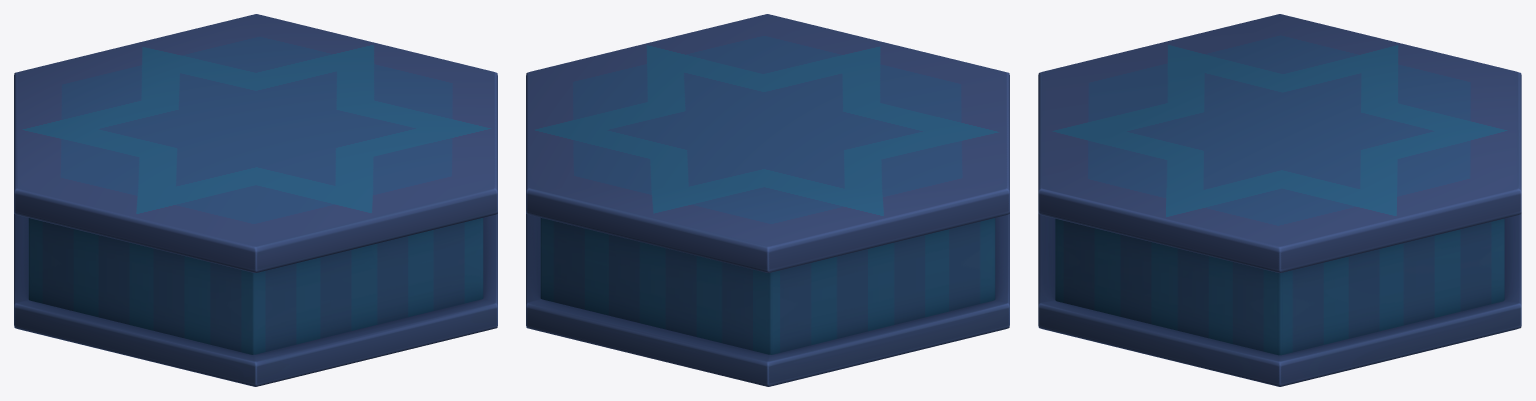
File: SM_UpDownFoothold02.fbx
The picture shows the model from 3 angles, left to right: view 1: azimuth 30°, elevation 25°; view 2: azimuth 150°, elevation 25°; view 3: azimuth 270°, elevation 25°; orthographic projection.
Parts seen in each view (by area): view 1: SM_UpDownFoothold02; view 2: SM_UpDownFoothold02; view 3: SM_UpDownFoothold02.
Part boxes in pixels (x1,y1,x2,y2): SM_UpDownFoothold02: (14, 14, 497, 386); SM_UpDownFoothold02: (526, 14, 1009, 386); SM_UpDownFoothold02: (1038, 14, 1521, 386).
Size of the model in its own units: 361 by 100 by 313.
